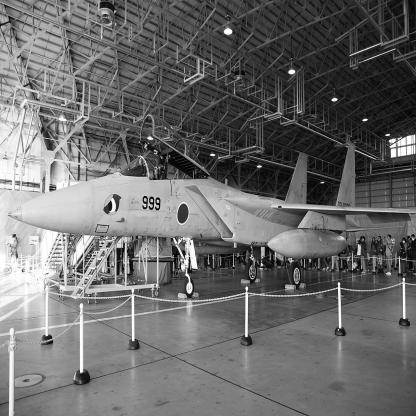F15: (8, 114, 416, 299)
